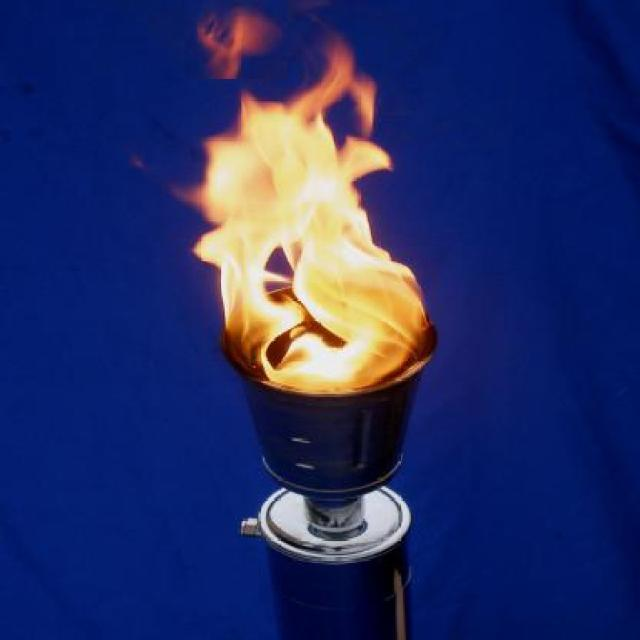Fire: (179, 6, 433, 393)
